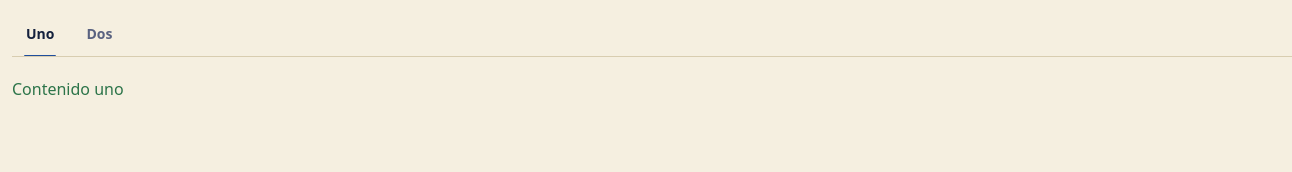
Test case: Switch, Tabs y EmptyState › Tabs cambia de panel al elegir una pestaña
The image size is (1292, 172).
Expected: the text "Contenido uno" is shown, [12,78,124,100]
Click the tab "Dos".
click(100, 34)  # box [72,12,126,56]
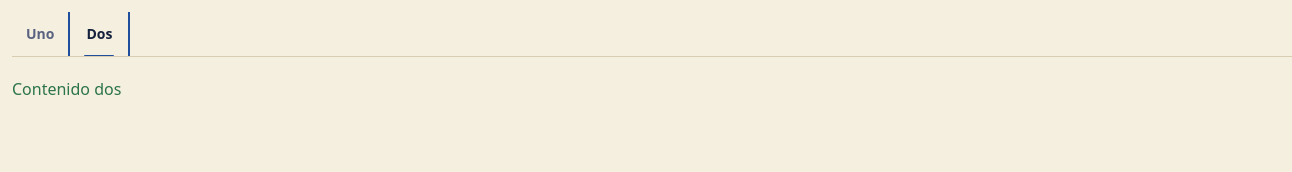
Result: the text "Contenido dos" is shown at [12,78,121,100]
